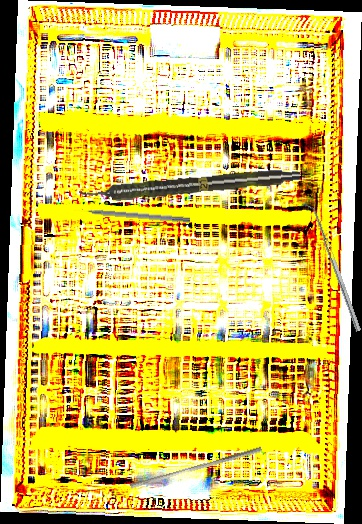Handpiece: (78, 165, 301, 205)
Hook Surgical: (73, 205, 191, 224)
Pusher: (129, 441, 263, 494)
Spatula Surgical: (304, 201, 362, 334)
